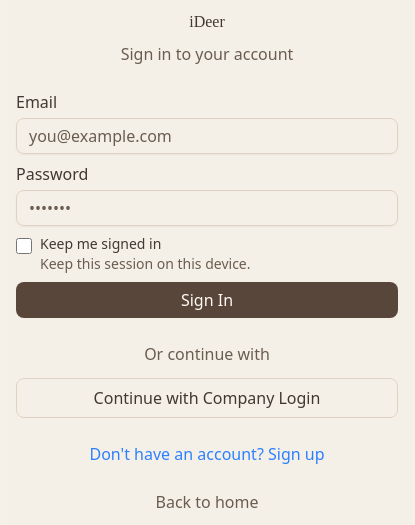
Test: LoginPage › hides enterprise login while creating an email account
Expected: the link "Continue with Company Login" is shown, [16,378,398,418]
Click the button "Don't have an account? Sign up": (207, 454) [90,442,324,466]
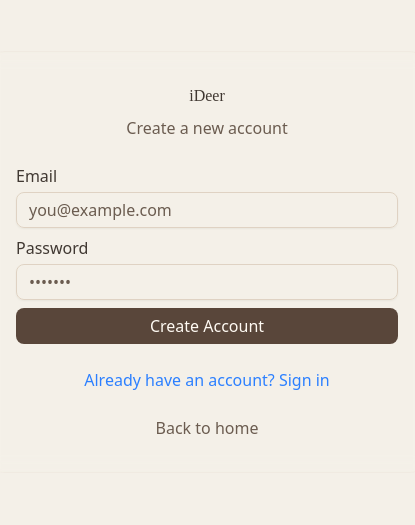
Expected: the field labelled "Email" is shown, [16,192,398,228]
Result: the link "Continue with Company Login" is gone
